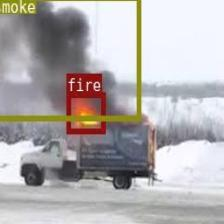fire: (66, 92, 105, 132)
smoke: (0, 0, 140, 119)
